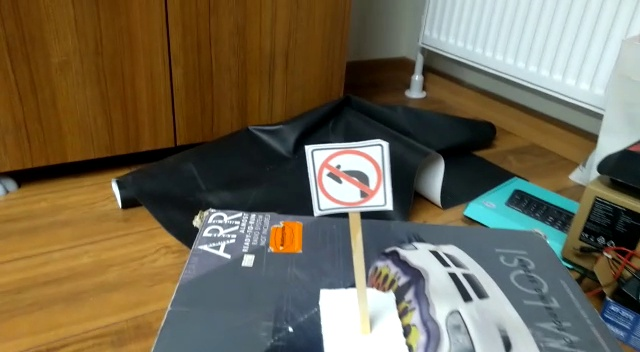sola_donulmez: (314, 143, 383, 212)
